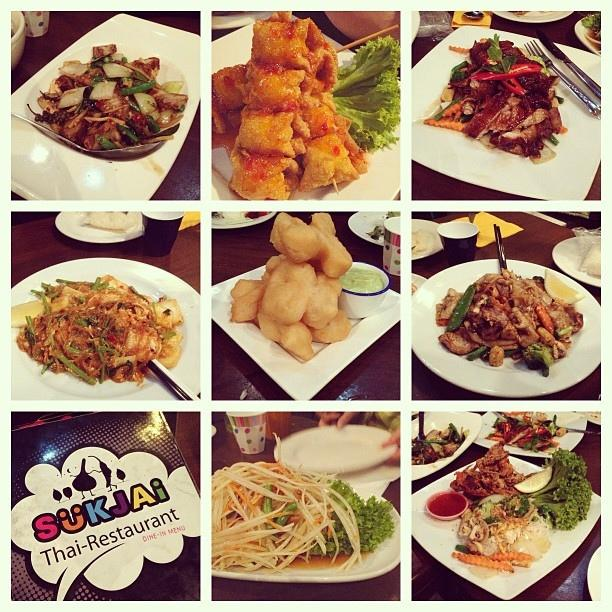lettuce: (333, 69, 401, 155), (524, 448, 592, 532), (331, 480, 395, 554), (332, 35, 402, 98), (581, 12, 601, 31)
pea: (446, 284, 476, 332), (121, 80, 156, 97), (276, 498, 297, 526), (118, 125, 138, 143), (96, 137, 118, 150), (466, 346, 488, 359), (105, 344, 109, 348)
